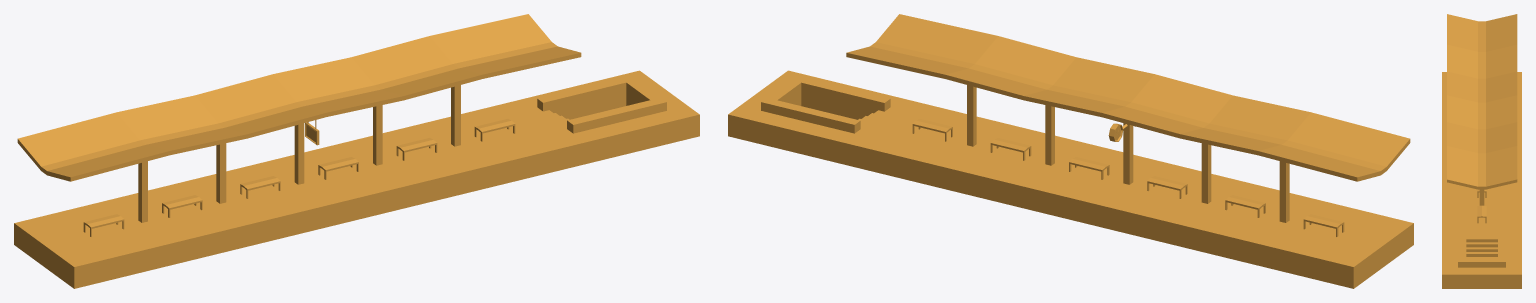
The model's file is train-station-platform-stairs.fbx.
3 renders of one model, left to right at view 1: azimuth 30°, elevation 25°; view 2: azimuth 150°, elevation 25°; view 3: azimuth 270°, elevation 25°, orthographic. The views are drawn at different scales.
Visible parts, largest first — view 1: train-station-platform-stairs; view 2: train-station-platform-stairs; view 3: train-station-platform-stairs.
Boxes of the visible parts, x1,y1,x2,y2 form: train-station-platform-stairs: [14, 14, 699, 288]; train-station-platform-stairs: [728, 14, 1413, 288]; train-station-platform-stairs: [1442, 14, 1521, 288].
Size of the model in its own units: 30.04 by 5.1 by 5.
